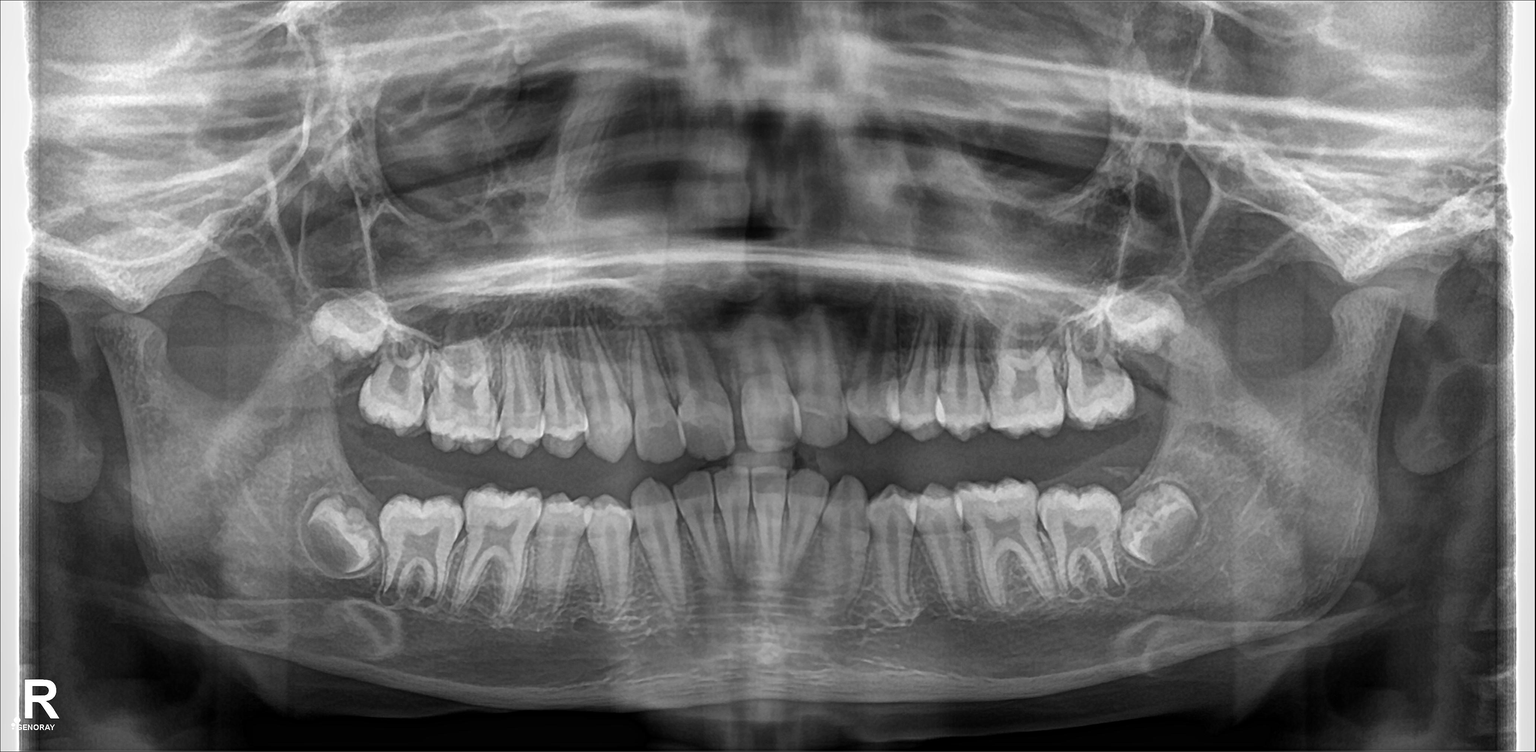Impacted Third Molar: (298, 501, 383, 587), (1127, 477, 1198, 557), (318, 290, 384, 368), (1106, 292, 1189, 352)
